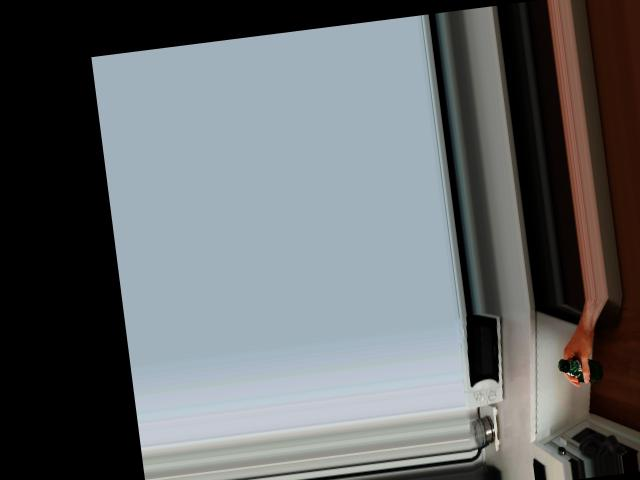beer: (558, 354, 605, 386)
